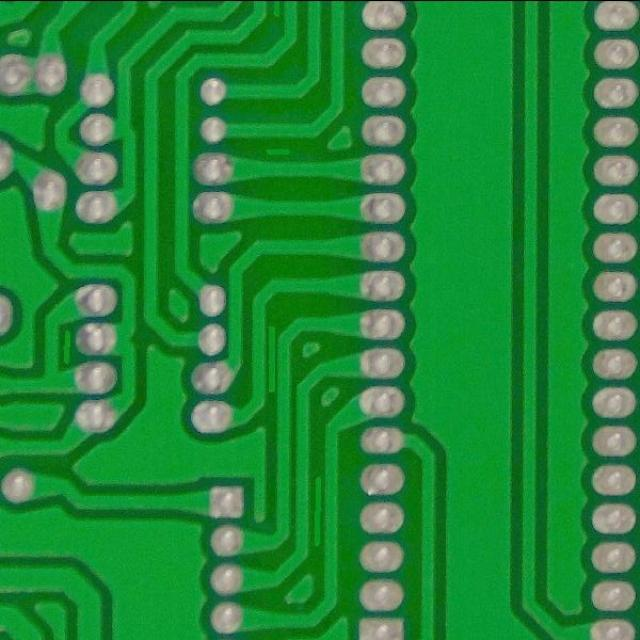Spurious_Cooper: (308, 470, 328, 550), (264, 321, 280, 397), (58, 324, 76, 367), (262, 144, 294, 159), (270, 0, 284, 20)
